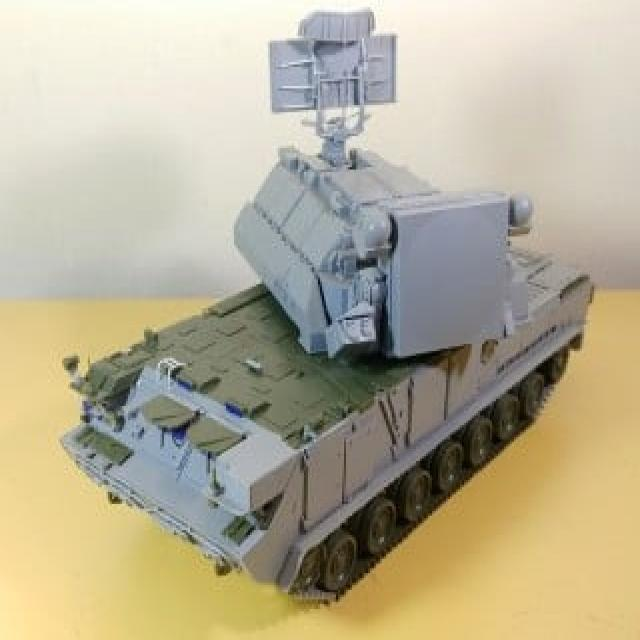MIL_EW_RDR: (61, 26, 589, 602)
